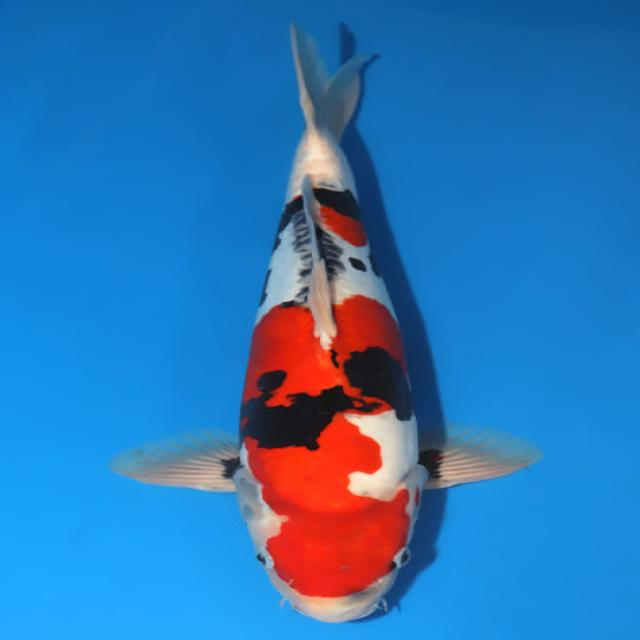Showa: (108, 20, 541, 623)
